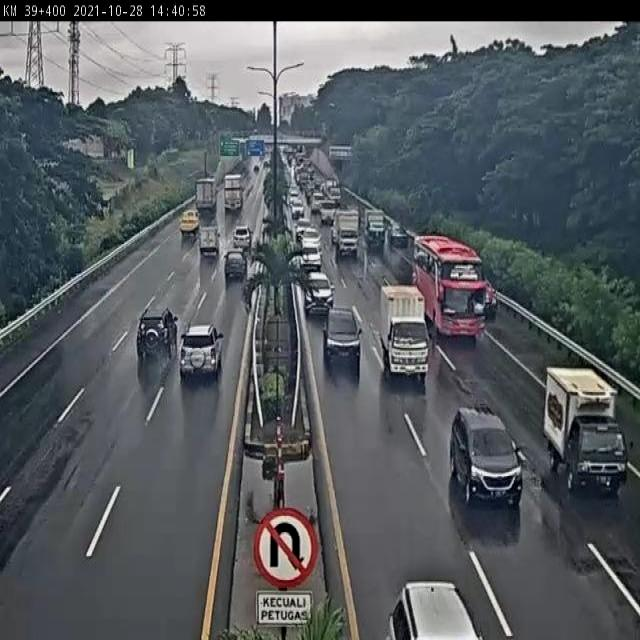Bus: (412, 236, 494, 346)
Car: (450, 406, 523, 507), (320, 306, 361, 377), (178, 322, 224, 382), (136, 306, 178, 364), (302, 271, 334, 315), (298, 240, 322, 270), (224, 250, 246, 282), (386, 222, 410, 249), (232, 225, 252, 250), (290, 199, 304, 221), (312, 191, 324, 212)
Truck: (544, 369, 628, 495), (378, 285, 429, 388), (332, 209, 360, 258), (363, 209, 386, 251), (195, 176, 217, 218), (224, 173, 244, 211), (199, 225, 219, 260), (180, 209, 200, 237), (295, 217, 310, 243), (320, 202, 336, 225), (327, 185, 342, 208)
